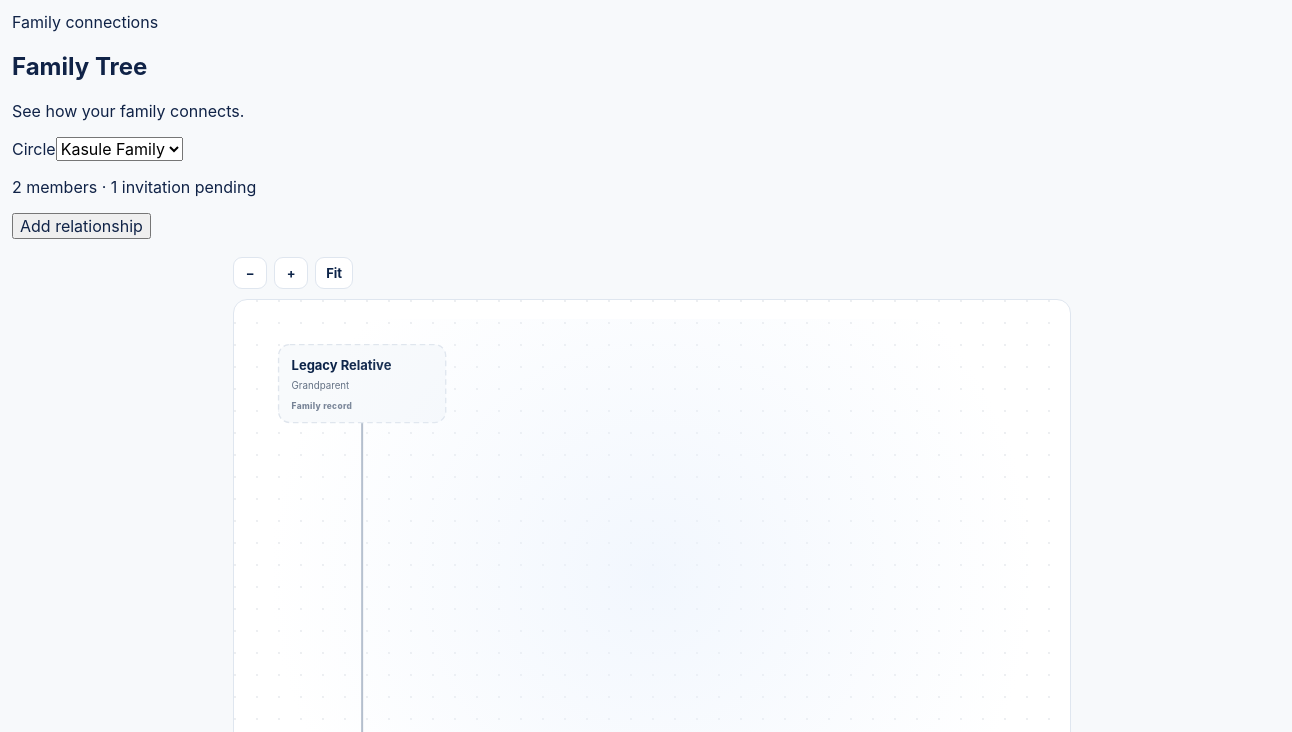
Test case: FamilyTreePage relationship creation › shows a safe error and preserves the form when creation fails
Click the button "Add relationship" at (81, 226), box x1=12 y1=213 x2=151 y2=239
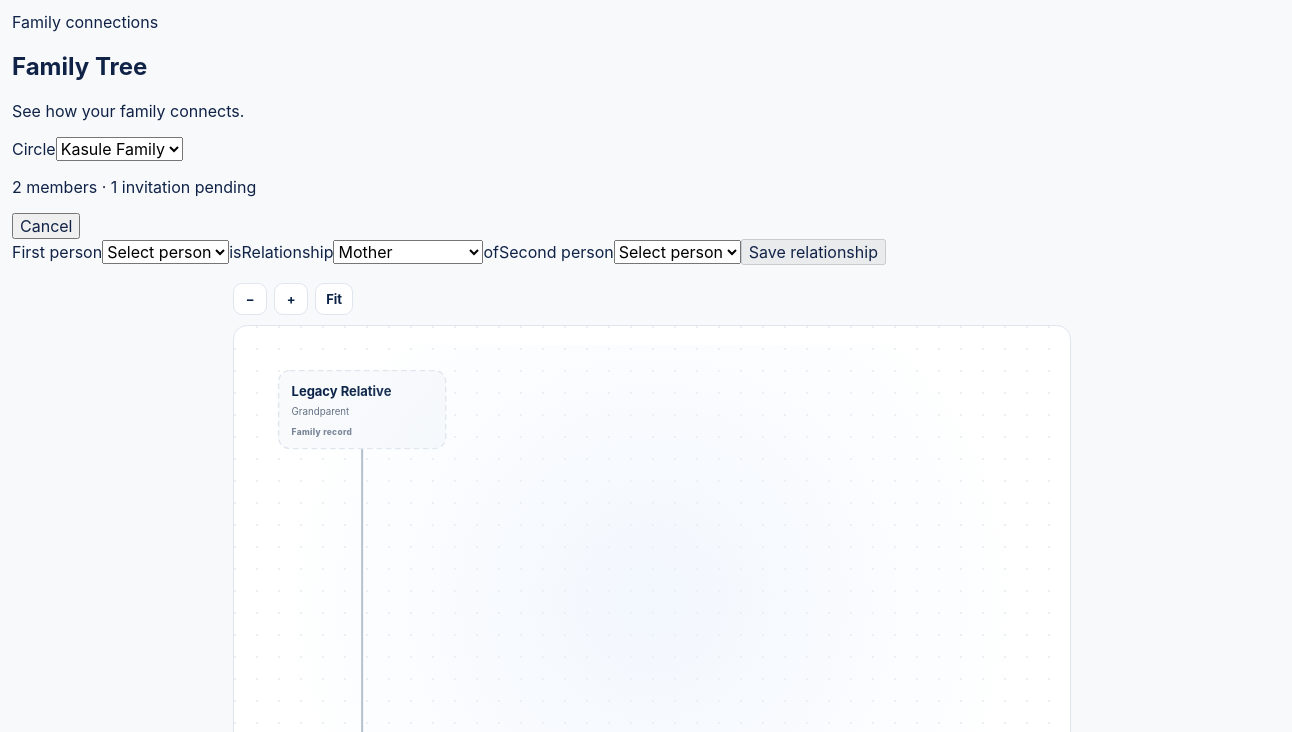
Select "Alice" in the dropdown labelled "First person" at (166, 252), box x1=102 y1=240 x2=229 y2=264
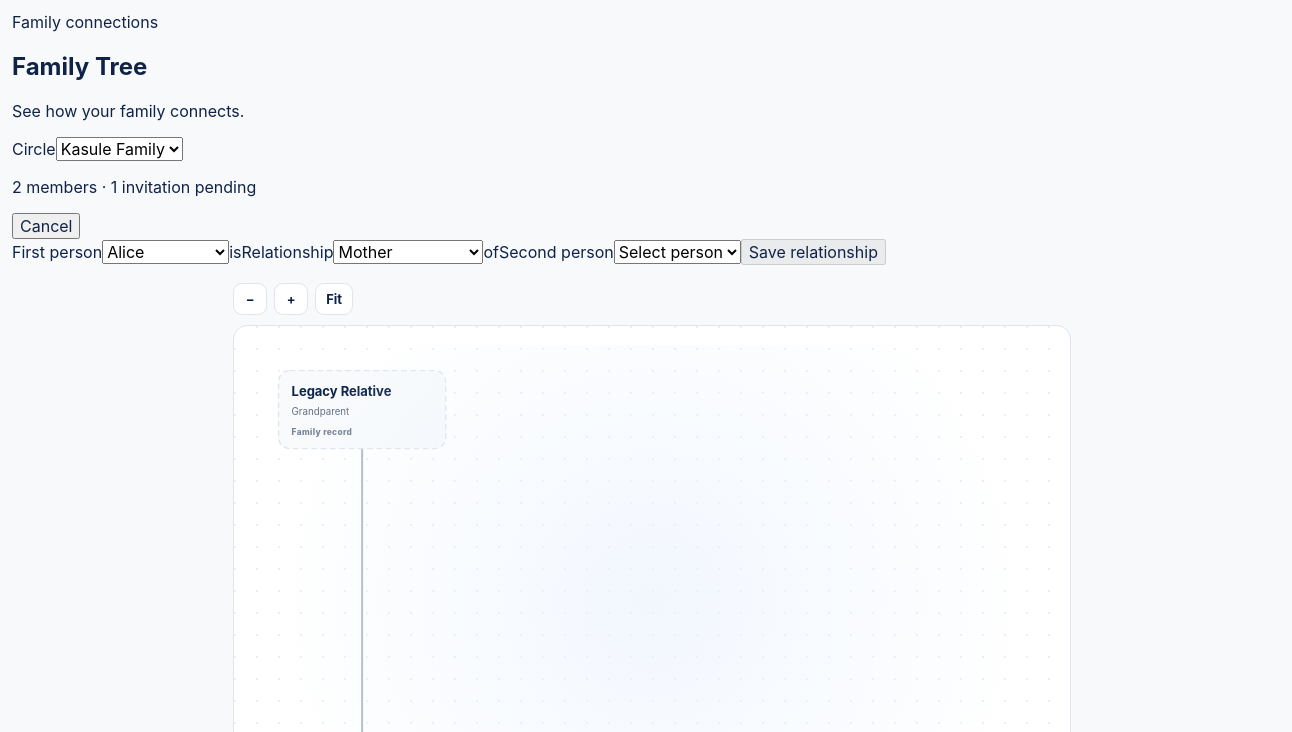
Select "Mother" in the dropdown labelled "Relationship" at (408, 252), box x1=334 y1=240 x2=484 y2=264
Select "Bob" in the dropdown labelled "Second person" at (677, 252), box x1=614 y1=240 x2=741 y2=264
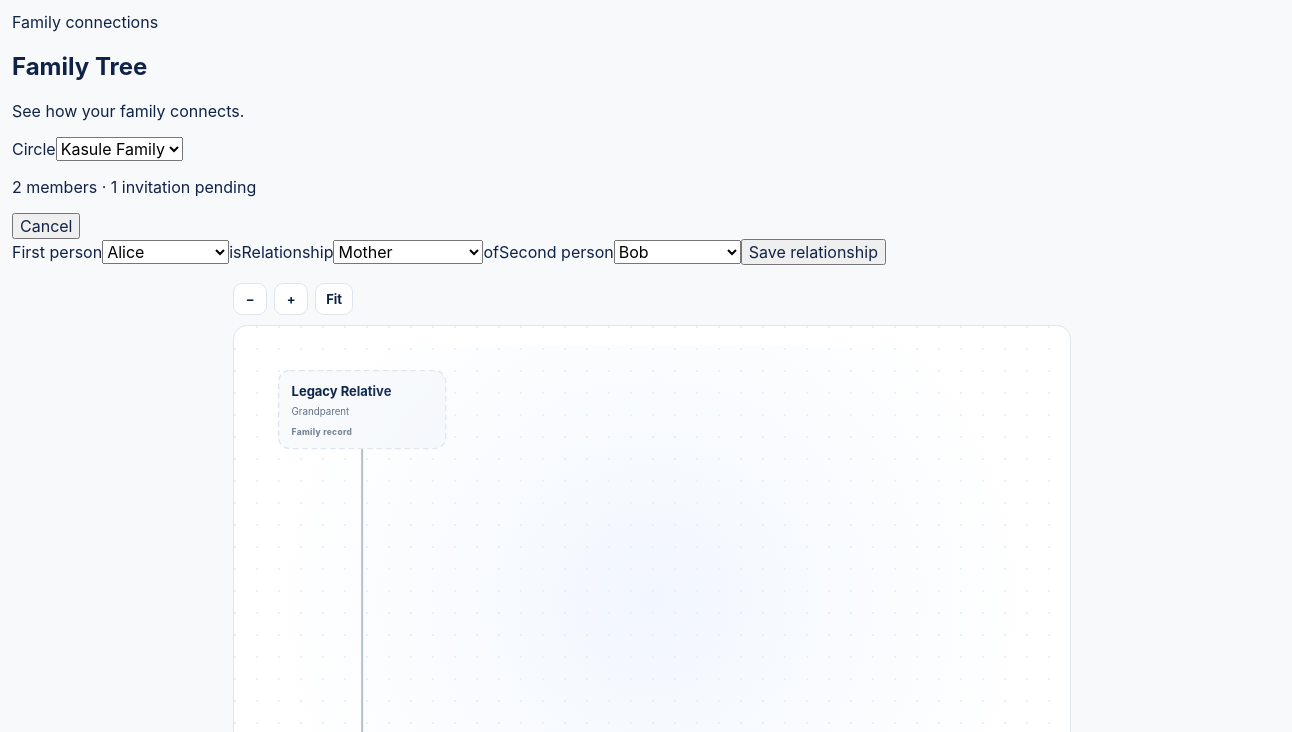
Click the button "Save relationship" at (813, 252), box x1=741 y1=239 x2=886 y2=265
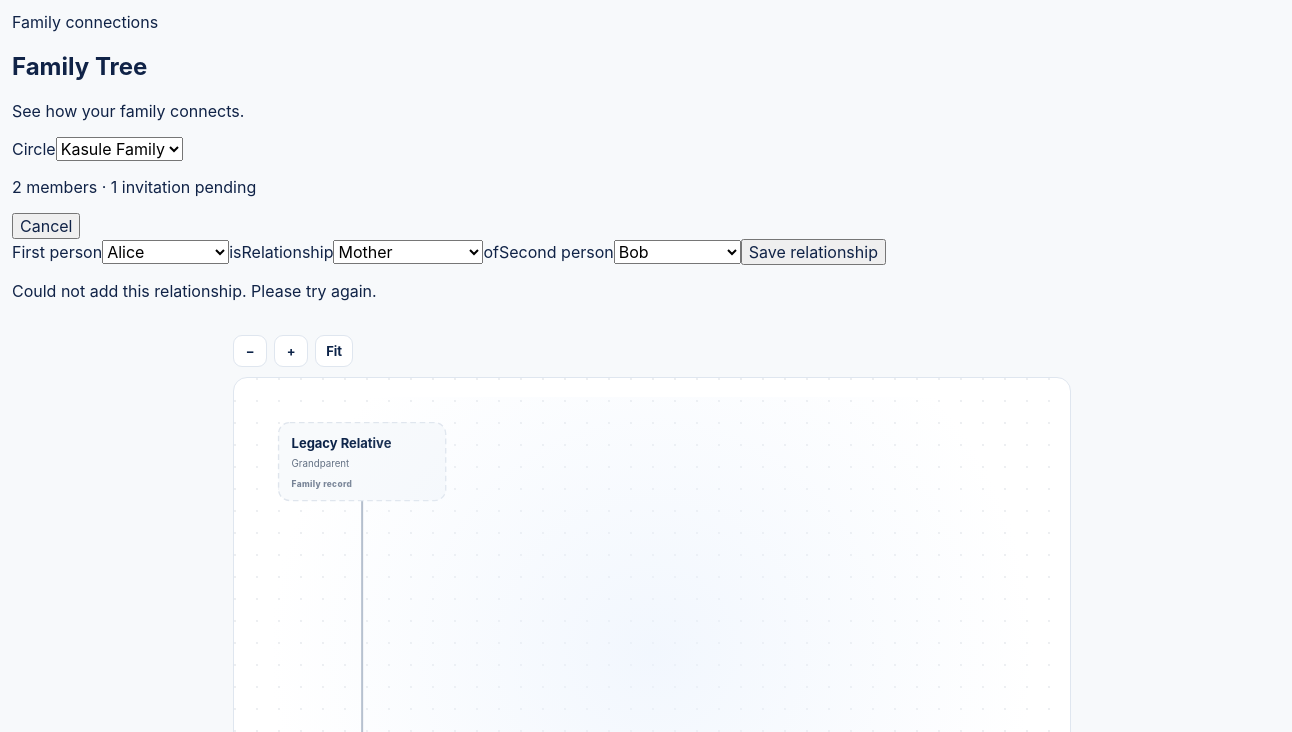
Check: the message reads "Could not add this relationship. Please try again.", box x1=12 y1=281 x2=377 y2=301
